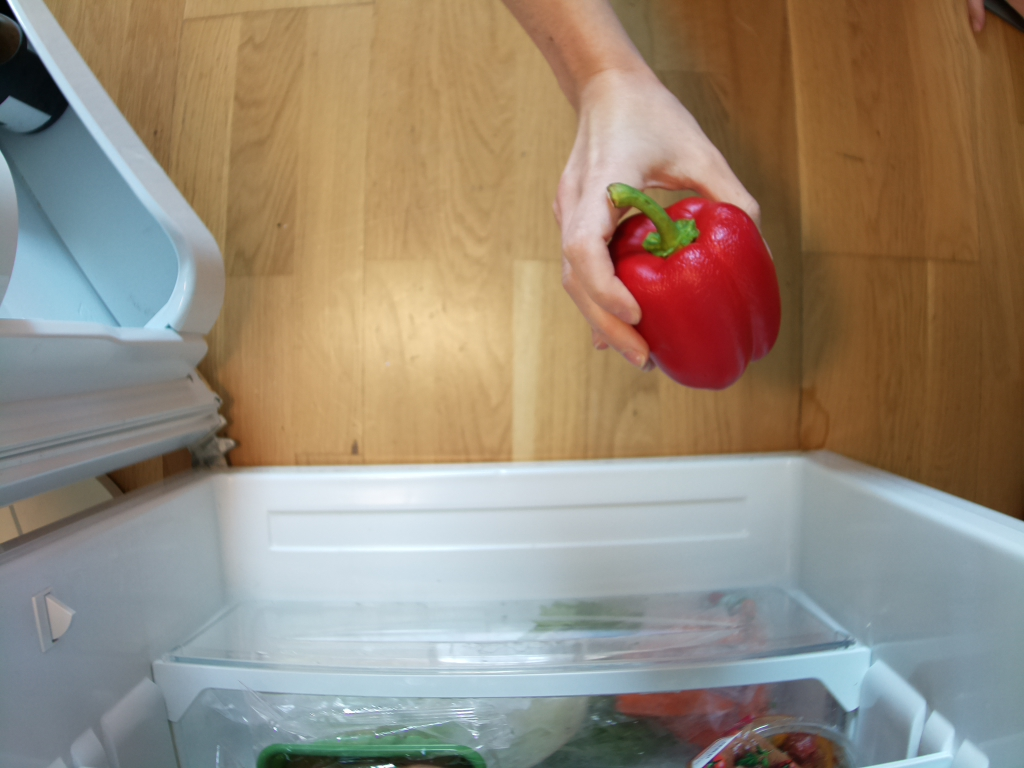pepper-bad: (601, 176, 783, 390)
